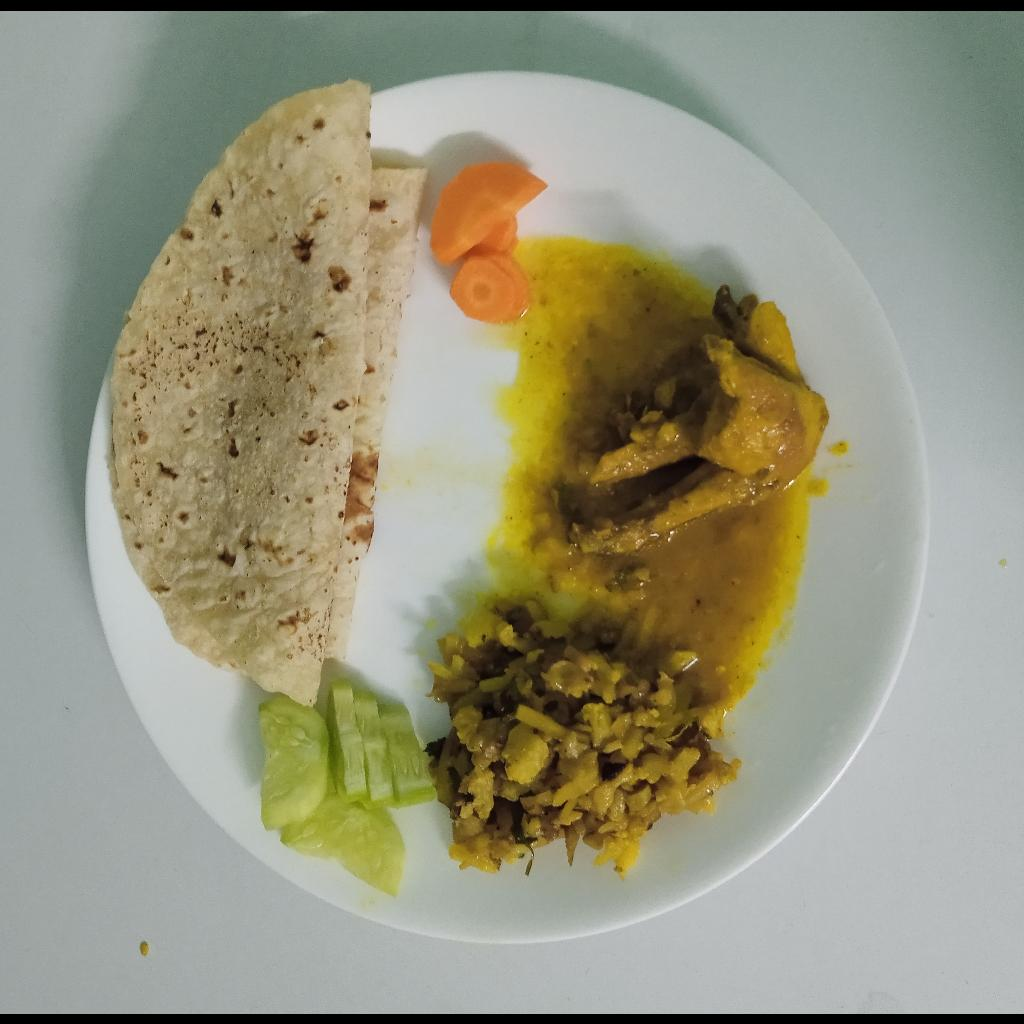carrot: (432, 156, 549, 319)
cauliflower: (432, 625, 728, 869)
chicken: (562, 278, 825, 555)
cucumber: (257, 693, 440, 890)
ruti: (108, 80, 435, 704)
